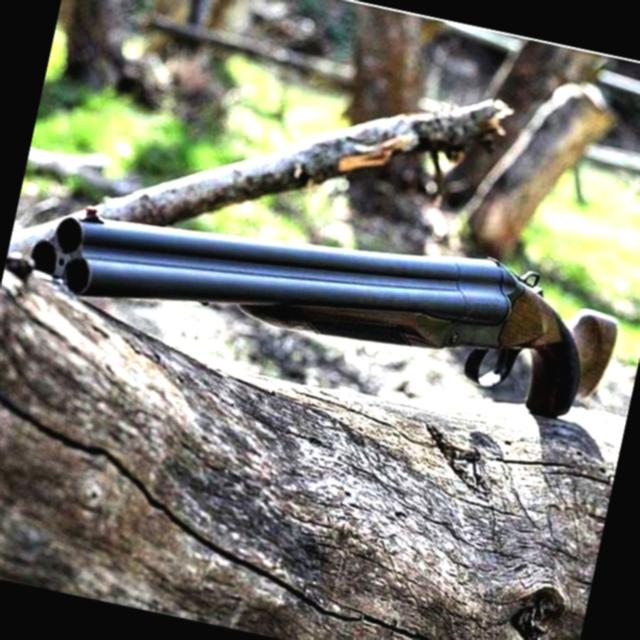shotgun: (16, 167, 634, 436)
